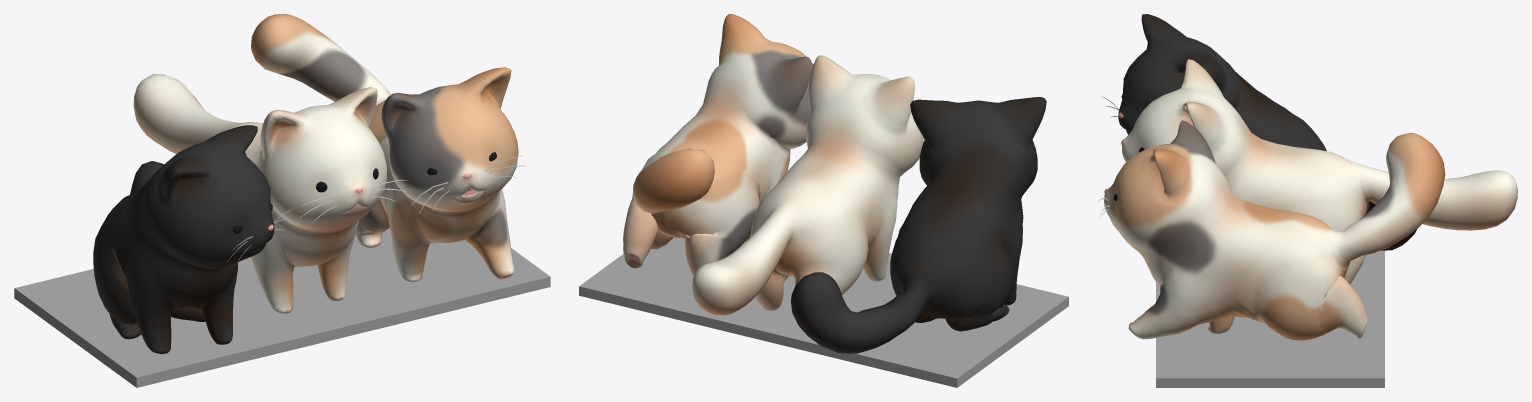
The model's file is Cat_trio.fbx.
3 renders of one model, left to right at view 1: azimuth 30°, elevation 25°; view 2: azimuth 150°, elevation 25°; view 3: azimuth 270°, elevation 25°, orthographic. The views are drawn at different scales.
Visible parts, largest first — view 1: fat_cat_white1, pCube1, fat_cat_white2, fat_cat_white; view 2: fat_cat_white2, fat_cat_white, fat_cat_white1, pCube1; view 3: fat_cat_white1, fat_cat_white, pCube1, fat_cat_white2.
Part boxes in pixels (x1=…): fat_cat_white1: x1=251, y1=14, x2=526, y2=281; pCube1: x1=14, y1=228, x2=550, y2=387; fat_cat_white2: x1=93, y1=125, x2=294, y2=353; fat_cat_white: x1=133, y1=74, x2=407, y2=313; fat_cat_white2: x1=790, y1=97, x2=1046, y2=353; fat_cat_white: x1=692, y1=55, x2=923, y2=315; fat_cat_white1: x1=623, y1=14, x2=813, y2=276; pCube1: x1=579, y1=237, x2=1068, y2=387; fat_cat_white1: x1=1097, y1=120, x2=1445, y2=340; fat_cat_white: x1=1121, y1=59, x2=1517, y2=284; pCube1: x1=1156, y1=250, x2=1384, y2=387; fat_cat_white2: x1=1101, y1=14, x2=1417, y2=250.
Size of the model in its own units: 116 by 61.37 by 109.
